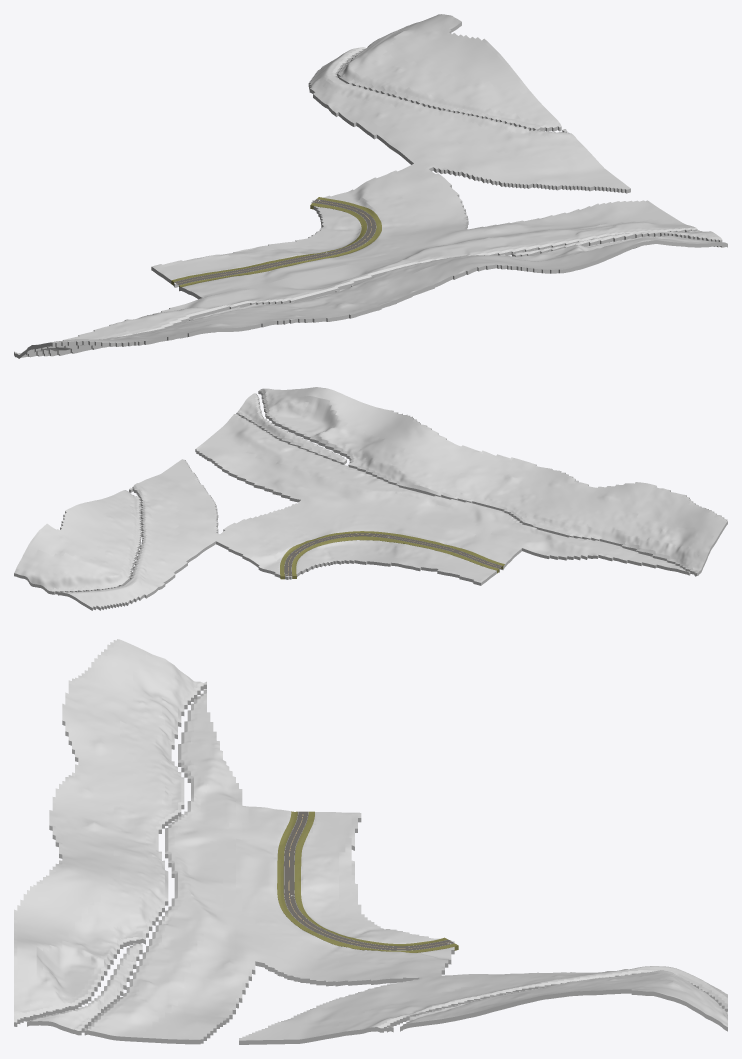
Rendered from conz_59.glb.
3 renders of one model, top to bottom at view 1: azimuth 30°, elevation 25°; view 2: azimuth 150°, elevation 25°; view 3: azimuth 270°, elevation 25°, orthographic. The views are drawn at different scales.
Visible parts, largest first — view 1: terrain59, road59, verge59R, verge59L; view 2: terrain59, road59, verge59L, verge59R; view 3: terrain59, road59, verge59R, verge59L.
Boxes of the visible parts, x1,y1,x2,y2 form: terrain59: (14,14,727,358); road59: (174,199,376,285); verge59R: (179,197,381,287); verge59L: (171,203,366,285); terrain59: (14,387,727,610); road59: (284,533,502,575); verge59L: (291,536,499,578); verge59R: (280,531,504,579); terrain59: (14,639,727,1044); road59: (283,811,453,950); verge59R: (277,811,458,952); verge59L: (294,811,447,946).
Bounding box in the file's own units: 526 × 57.89 × 444.
